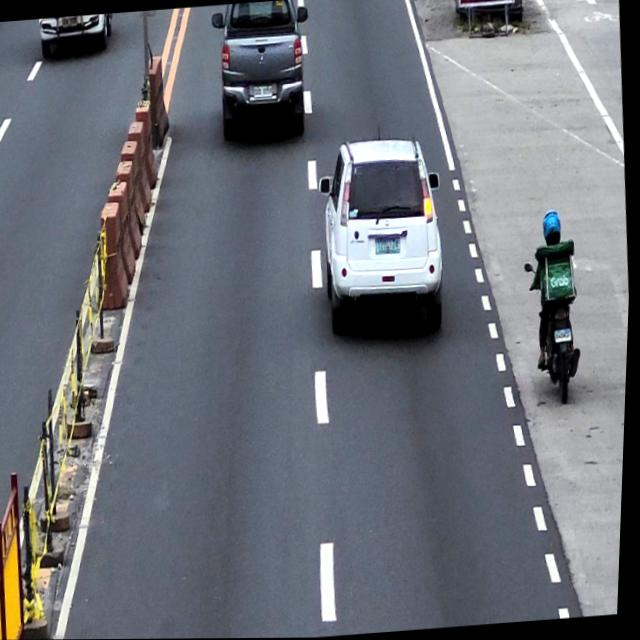Car: (312, 135, 454, 344), (207, 0, 316, 142)
License-Plate: (375, 237, 403, 256), (555, 328, 575, 345), (253, 85, 273, 98)
Motorcycle: (522, 259, 587, 409)
